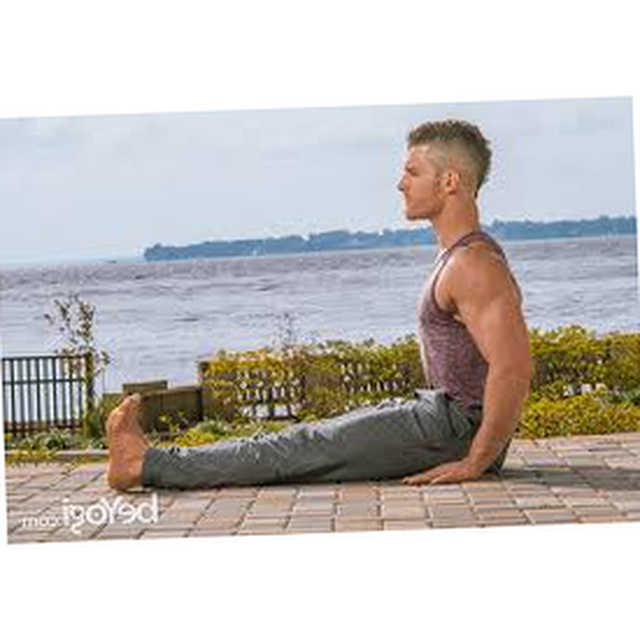Staff_Pose: (107, 119, 534, 491)
